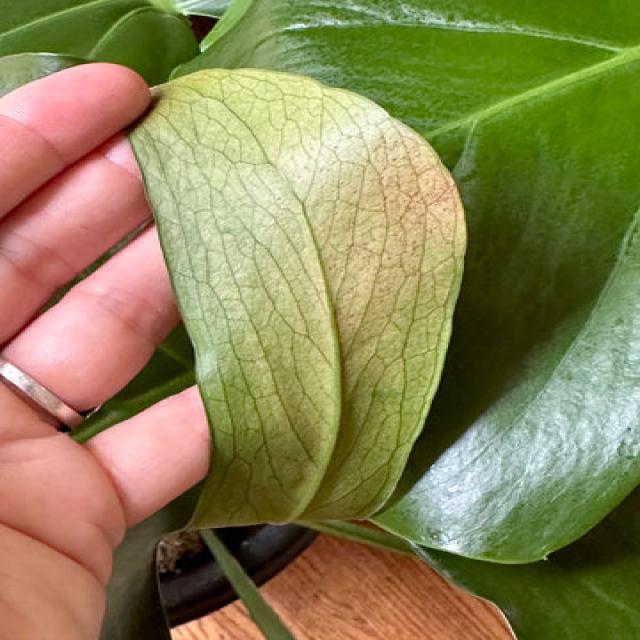Thrips: (157, 95, 493, 542)
